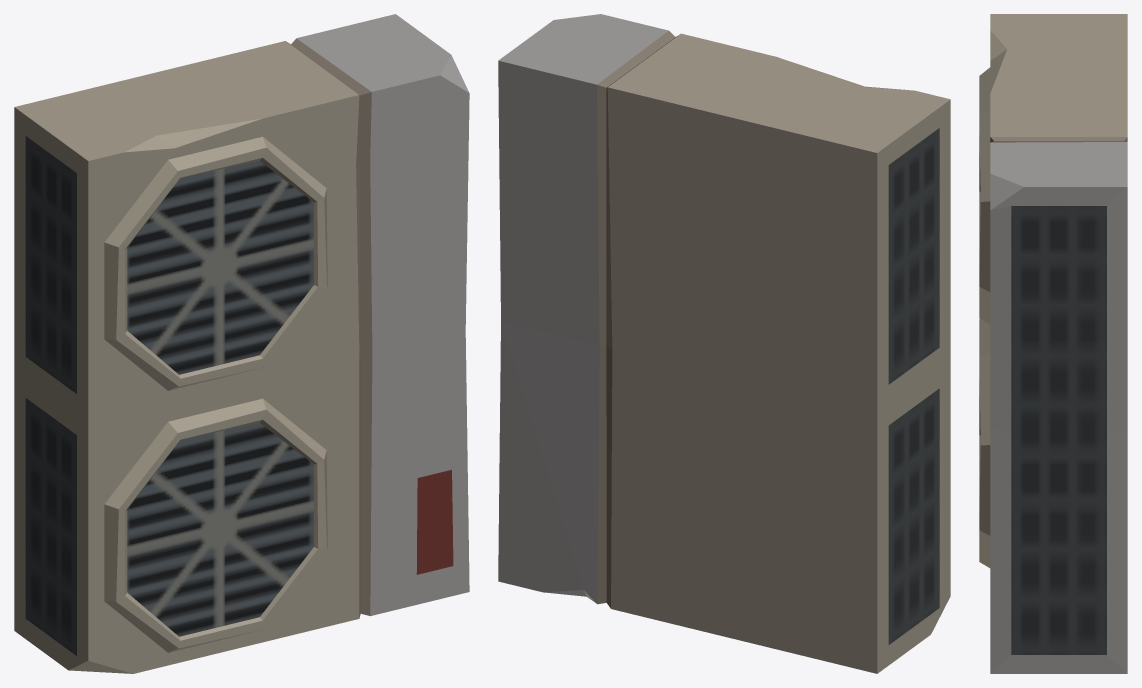
File: SM_Prop_Airconditioner_04.fbx
3 renders of one model, left to right at view 1: azimuth 30°, elevation 25°; view 2: azimuth 150°, elevation 25°; view 3: azimuth 270°, elevation 25°, orthographic. The views are drawn at different scales.
Parts seen in each view (by area): view 1: SM_Prop_Airconditioner_04; view 2: SM_Prop_Airconditioner_04; view 3: SM_Prop_Airconditioner_04.
Boxes of the visible parts, x1=… form: SM_Prop_Airconditioner_04: x1=14, y1=14, x2=469, y2=673; SM_Prop_Airconditioner_04: x1=498, y1=14, x2=950, y2=673; SM_Prop_Airconditioner_04: x1=979, y1=14, x2=1127, y2=673.
Bounding box in the file's own units: 107 × 141 × 39.02.
